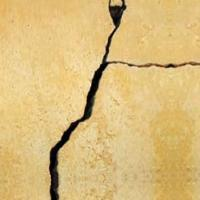crack: (39, 0, 199, 199)
